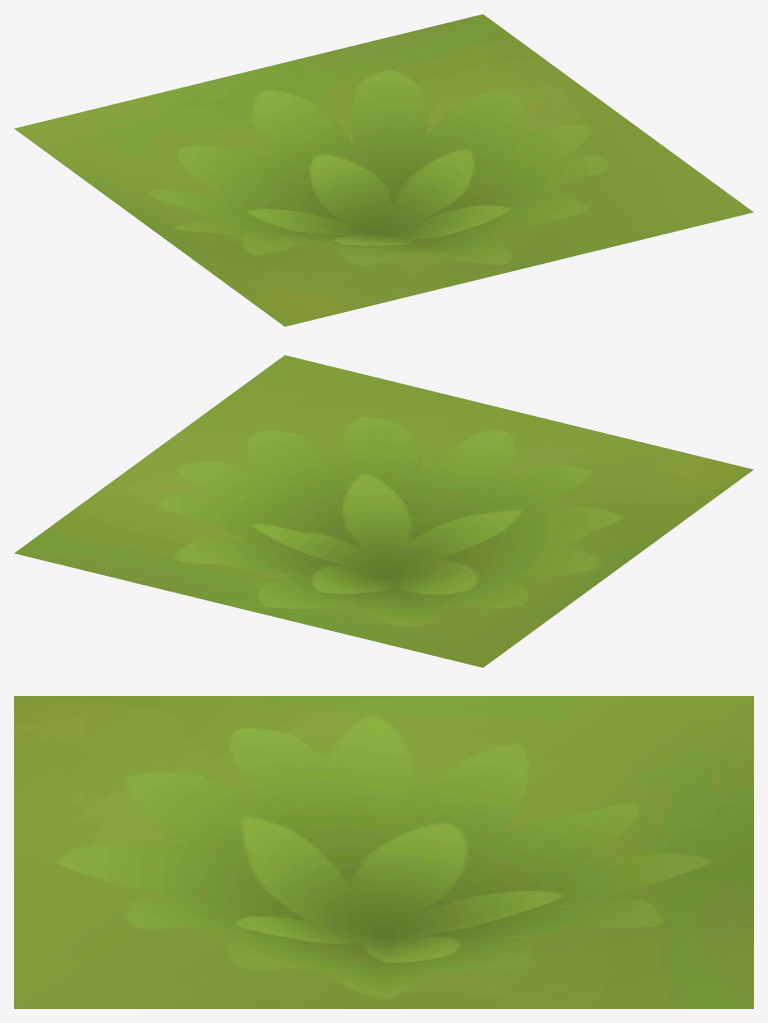
The model's file is 0175_T_ZhenYin_Shu06.glb.
3 views of the same model, one above another, from view 1: azimuth 30°, elevation 25°; view 2: azimuth 150°, elevation 25°; view 3: azimuth 270°, elevation 25° (orthographic). The views are drawn at different scales.
Bounding box in the file's own units: 2.2 × 0.2812 × 2.2.
Materials: 1 (1 with a texture image).
